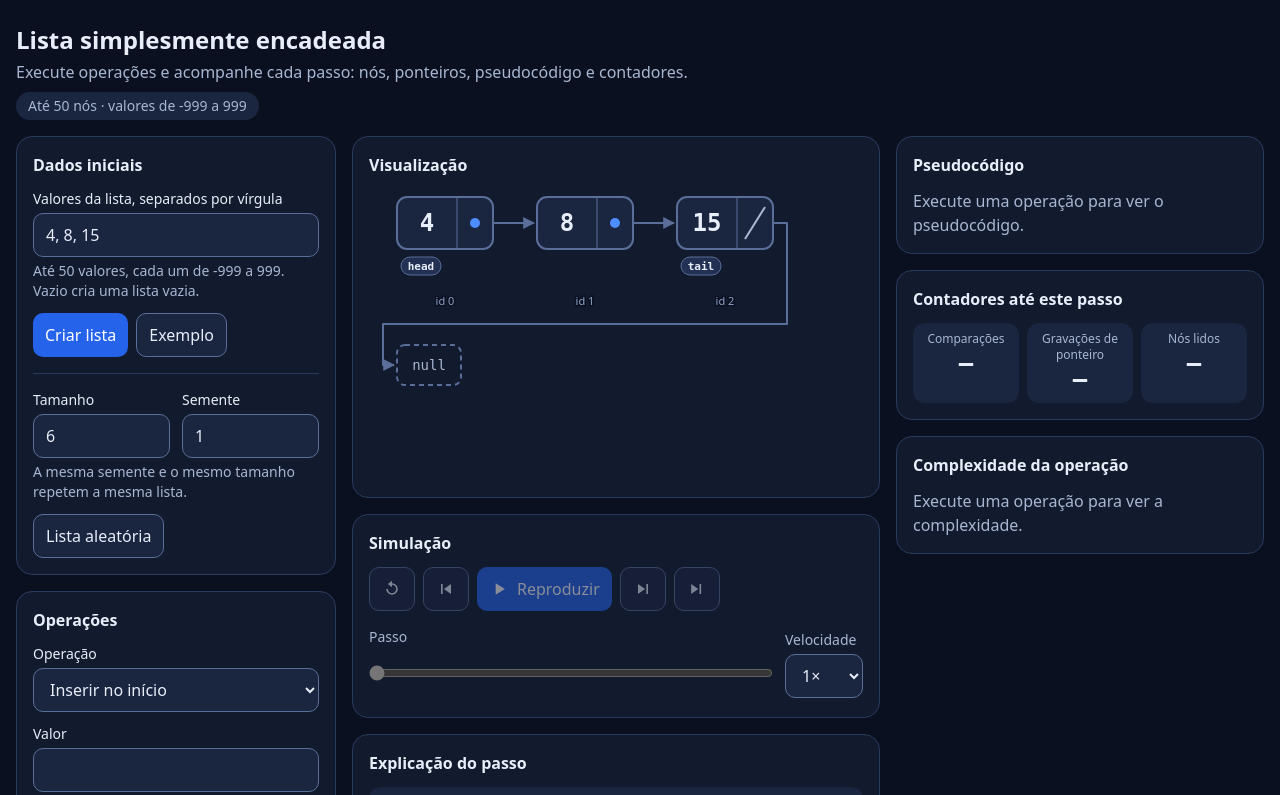
Test case: tratamento de erros › falha inesperada da Engine: aviso na tela e a lista continua como estava
The width and height of the screenshot is (1280, 795).
Select "Percorrer" in the dropdown labelled "Operação" at (176,690), box [33,668,319,712]
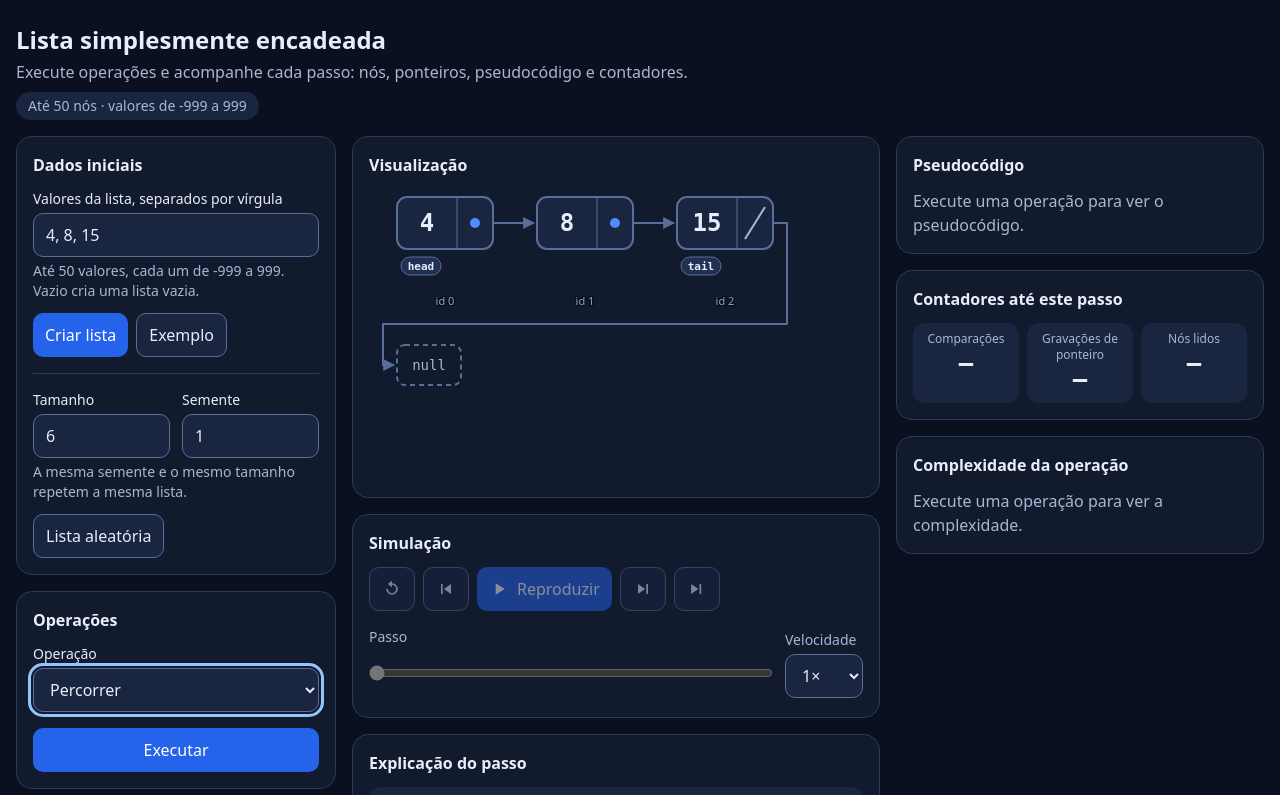
Click the button "Executar" at (176,750), box [33,728,319,772]
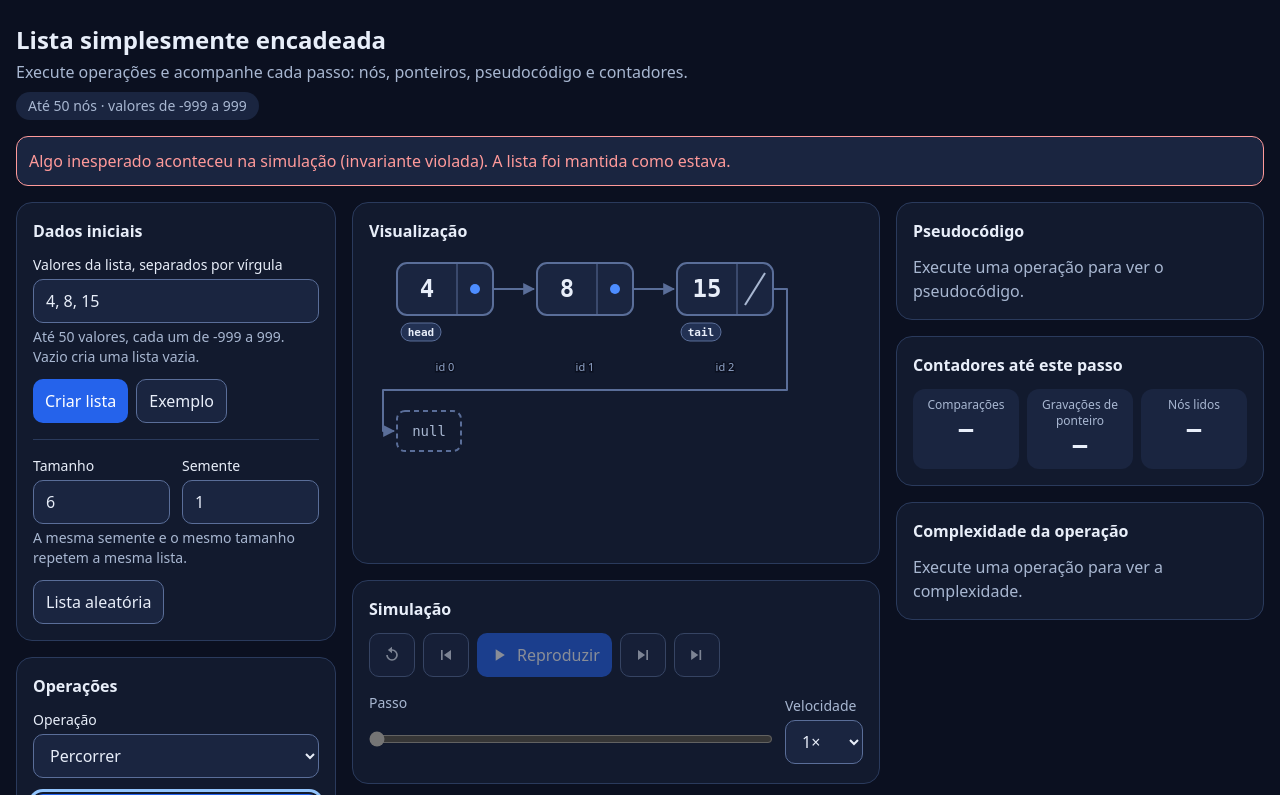
Check: the text "Algo inesperado aconteceu" shows "invariante violada", box [345,150,479,172]
